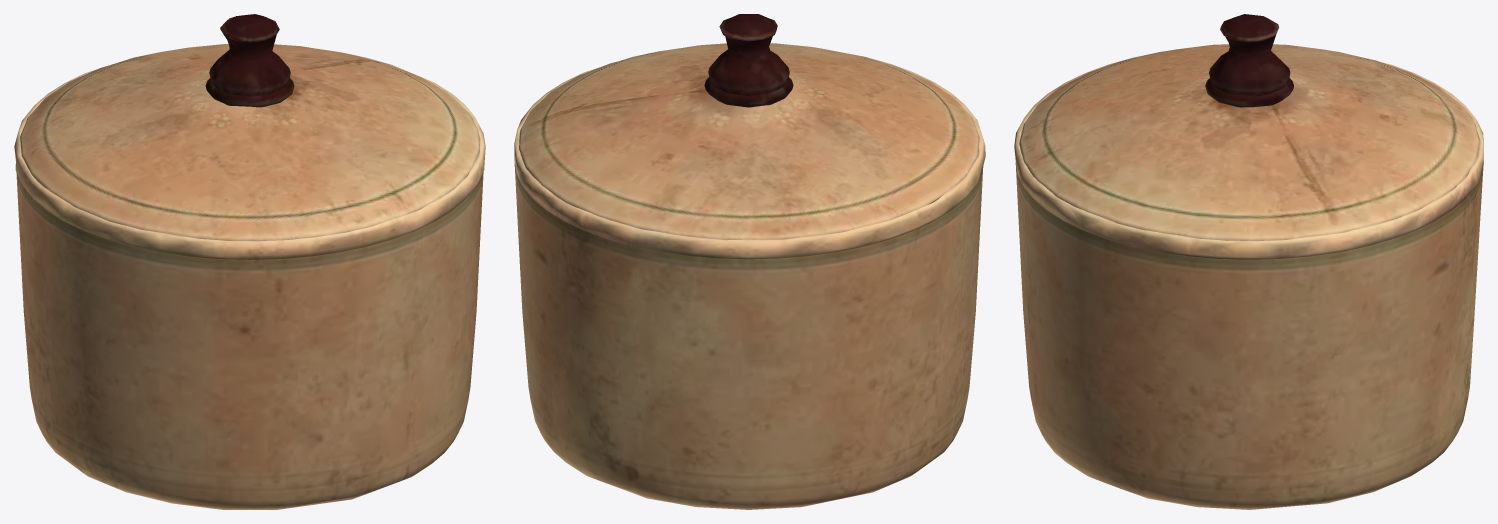
File: brass_pot_01.glb
3 renders of one model, left to right at view 1: azimuth 30°, elevation 25°; view 2: azimuth 150°, elevation 25°; view 3: azimuth 270°, elevation 25°, orthographic.
Visible parts, largest first — view 1: brass_pot; view 2: brass_pot; view 3: brass_pot.
Boxes of the visible parts, x1,y1,x2,y2 form: brass_pot: [14, 14, 485, 509]; brass_pot: [514, 14, 985, 509]; brass_pot: [1014, 14, 1483, 509].
Bounding box in the file's own units: 0.3015 × 0.2908 × 0.3001.
Materials: 1 (1 with a texture image).
